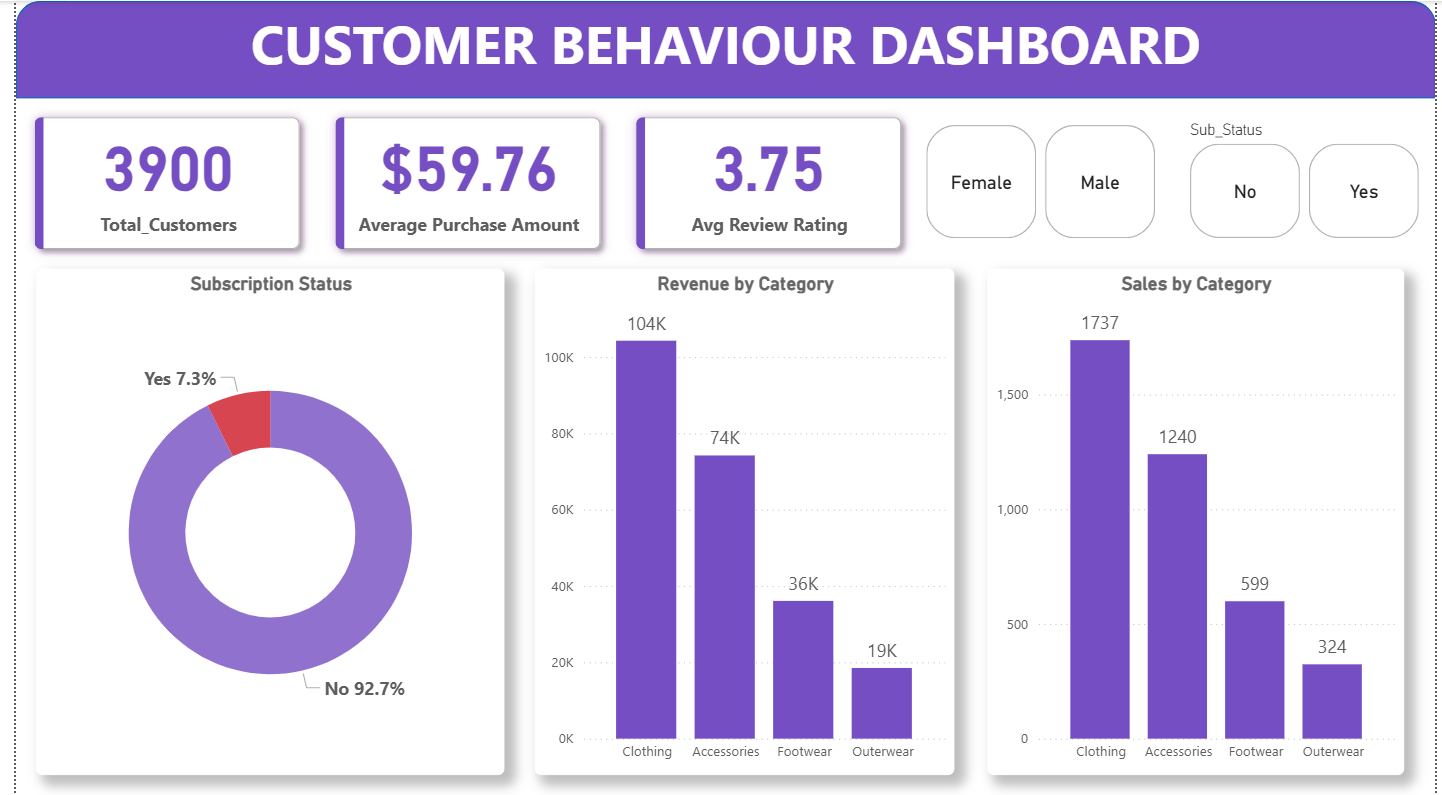

What the dashboard file says about the page in this screenshot:
{"tool":"powerbi","page":{"name":"Page 1","canvas":[1280,720],"ordinal":0},"visuals":[{"type":"cardVisual","fields":{"Data":["Measures_.Total_Customers","Measures_.Average Purchase Amount","Measures_.Avg Review Rating"]},"box":[0,87.8,816.5,153.7],"z":0},{"type":"shape","box":[0,0,1280.3,87.8],"z":1000},{"type":"textbox","box":[0,0,1280.3,78.2],"z":2000},{"type":"donutChart","title":"Subscription Status","fields":{"Y":["Sum(customer_db customers.customer_id)"],"Category":["customer_db customers.subscription_status"]},"box":[17.8,241.5,422.6,456.9],"z":3000},{"type":"clusteredColumnChart","title":"Revenue by Category","fields":{"Y":["Sum(customer_db customers.purchase_amount)"],"Category":["customer_db customers.category"]},"box":[467.9,241.5,378.7,456.9],"z":4000},{"type":"clusteredColumnChart","title":"Sales by Category","fields":{"Y":["CountNonNull(customer_db customers.purchase_amount)"],"Category":["customer_db customers.category"]},"box":[875.5,241.5,376,456.9],"z":5000},{"type":"advancedSlicerVisual","fields":{"Values":["customer_db customers.gender"]},"box":[816.5,107,216.8,112.5],"z":7000},{"type":"advancedSlicerVisual","title":"Sub_Status","fields":{"Values":["customer_db customers.subscription_status"]},"box":[1053.9,107,216.8,112.5],"z":7001}]}

Visuals, with their boxes in screenshot pixels (x1, y1, x2, y2), scaled from the page's 1280x720 canvas onto the 1442x795 screenshot:
cardVisual - Measures_.Total_Customers x Measures_.Average Purchase Amount: bbox(0, 97, 920, 267)
shape: bbox(0, 0, 1441, 97)
textbox: bbox(0, 0, 1441, 86)
"Subscription Status" donutChart: bbox(20, 267, 496, 771)
"Revenue by Category" clusteredColumnChart: bbox(527, 267, 954, 771)
"Sales by Category" clusteredColumnChart: bbox(986, 267, 1410, 771)
advancedSlicerVisual - customer_db customers.gender: bbox(920, 118, 1164, 242)
"Sub_Status" advancedSlicerVisual: bbox(1187, 118, 1432, 242)
